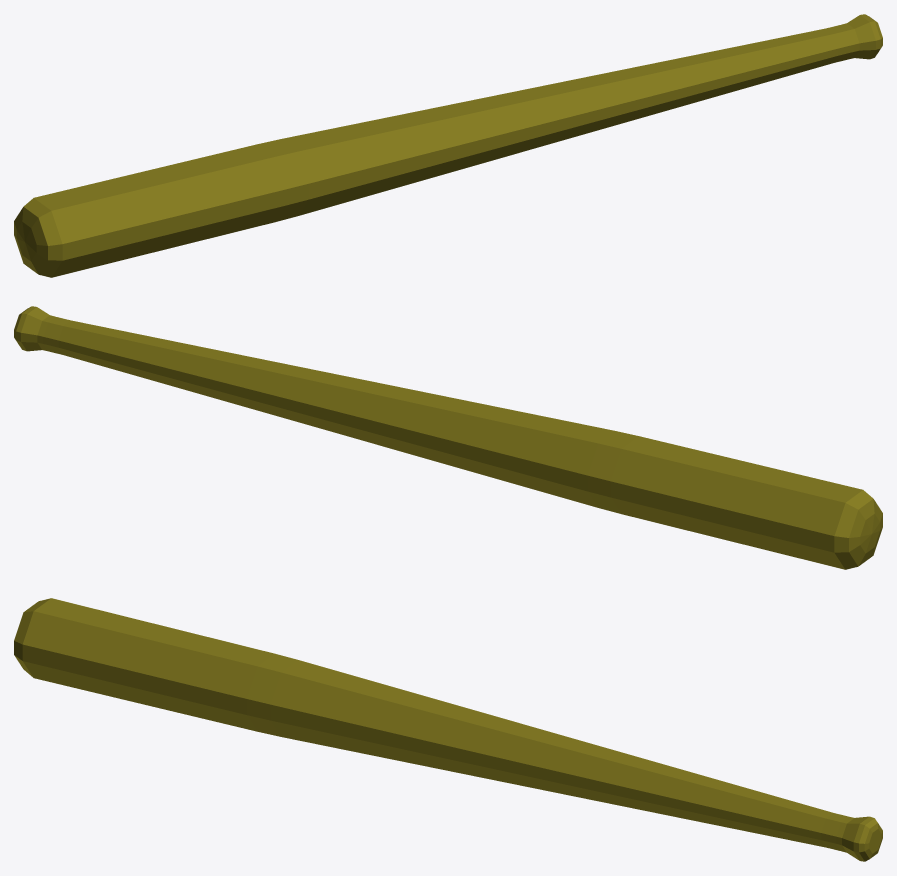
File: Batenormal.fbx
The picture shows the model from 3 angles, top to bottom: view 1: azimuth 30°, elevation 25°; view 2: azimuth 150°, elevation 25°; view 3: azimuth 330°, elevation 25°; orthographic projection.
Visible parts, largest first — view 1: bateorigilow; view 2: bateorigilow; view 3: bateorigilow.
Boxes of the visible parts, x1,y1,x2,y2 form: bateorigilow: [14, 14, 882, 277]; bateorigilow: [14, 306, 882, 569]; bateorigilow: [14, 598, 882, 861].
Size of the model in its own units: 63.13 by 4.75 by 5.14.
